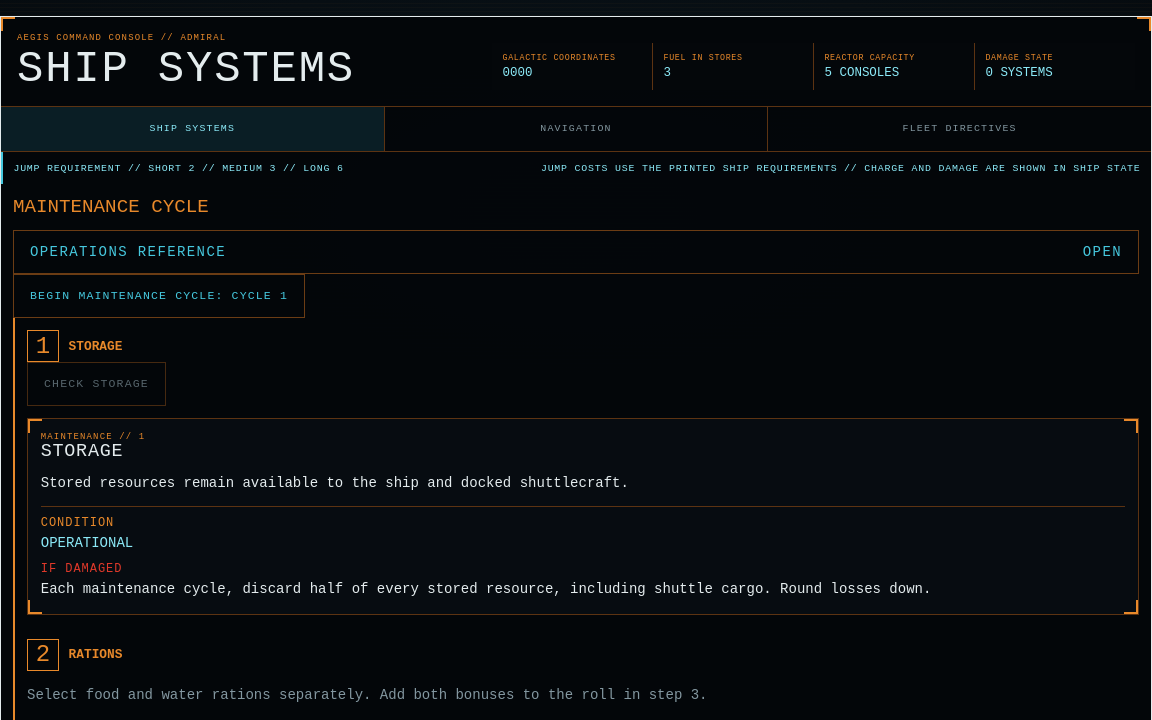
Scenario: routes the Admiral to the bounded fleet policy and defence coordination workspace
Step 1. Click the button "Fleet directives" → (960, 129), box [768,107,1151,151]
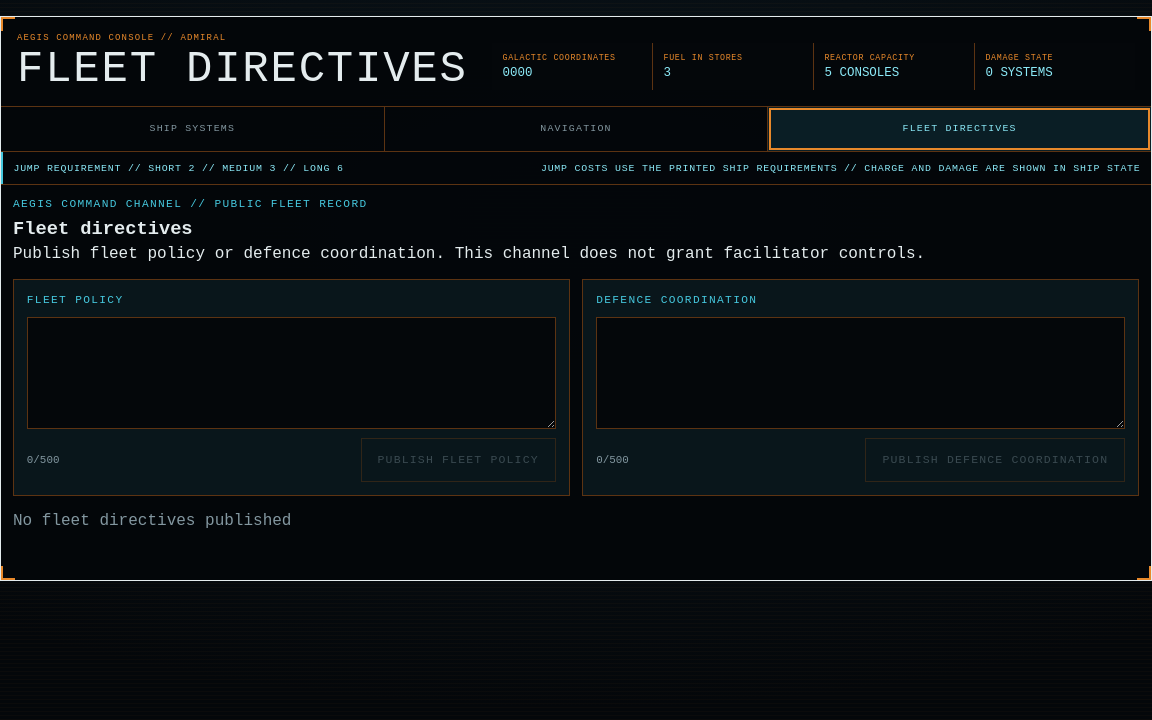
Check: the element named "Admiral policy and defence coordination" shows "This channel does not grant facilitator controls.", box [13,246,925,264]
Check: the text box labelled "Fleet policy" is enabled, box [27,317,556,429]
Check: the text box labelled "Defence coordination" is enabled, box [596,317,1125,429]
